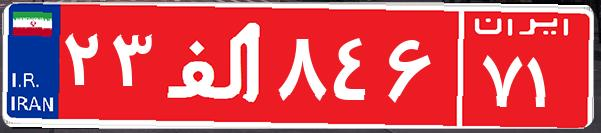1: (525, 38, 570, 115)
2: (57, 26, 110, 107)
3: (110, 28, 158, 105)
4: (330, 28, 385, 110)
6: (385, 28, 445, 110)
7: (475, 38, 525, 113)
8: (273, 28, 330, 110)
الف: (158, 15, 273, 115)
